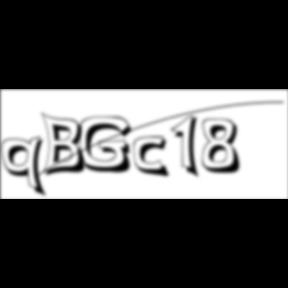1: (171, 114, 206, 182)
8: (202, 117, 248, 176)
B: (41, 111, 91, 179)
G: (79, 116, 138, 176)
c: (134, 136, 174, 180)
q: (1, 135, 50, 200)
